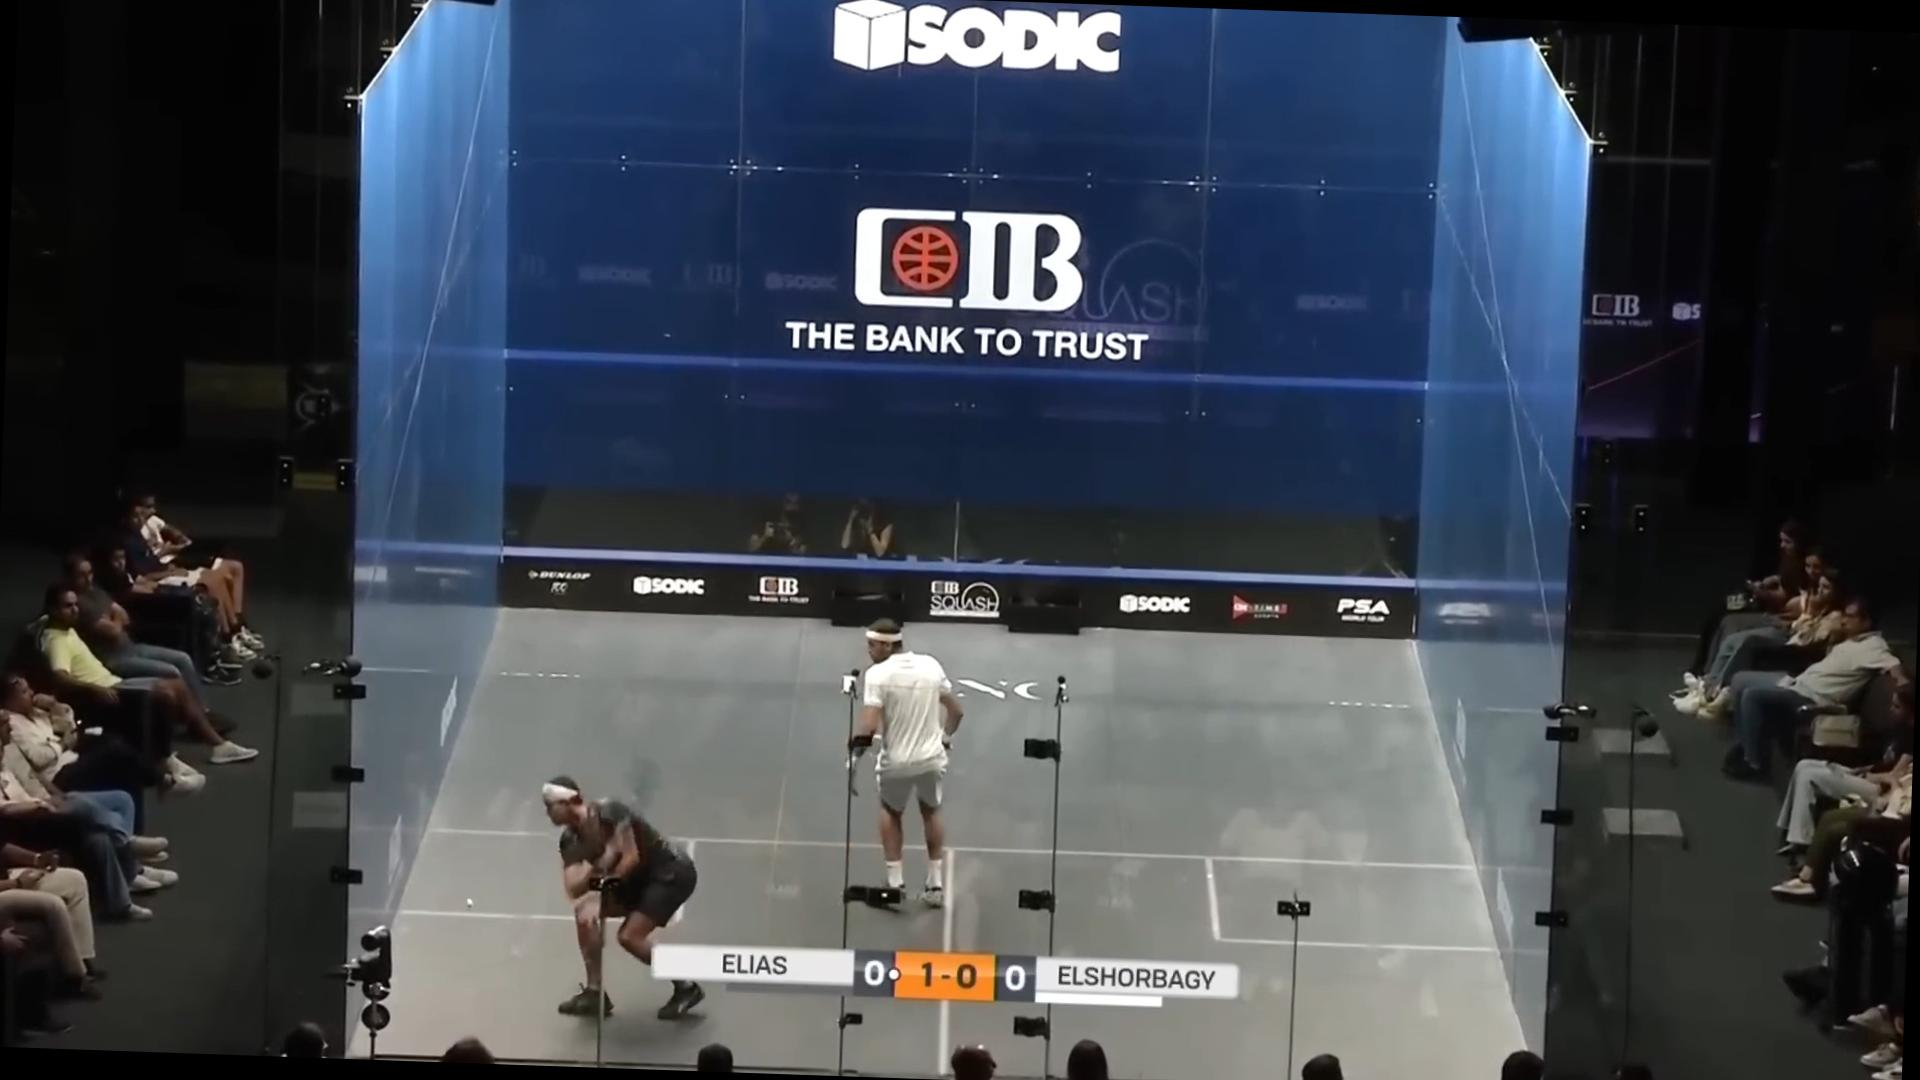Squash-Ball: (451, 891, 483, 916)
